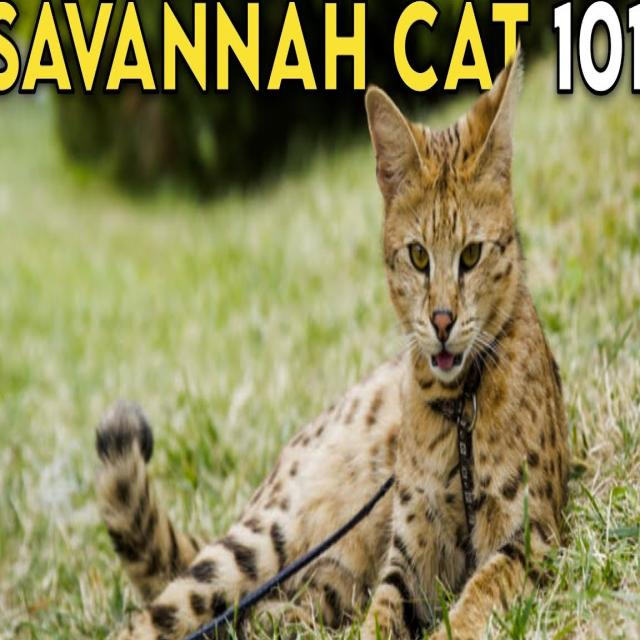Savannah: (63, 44, 574, 640)
